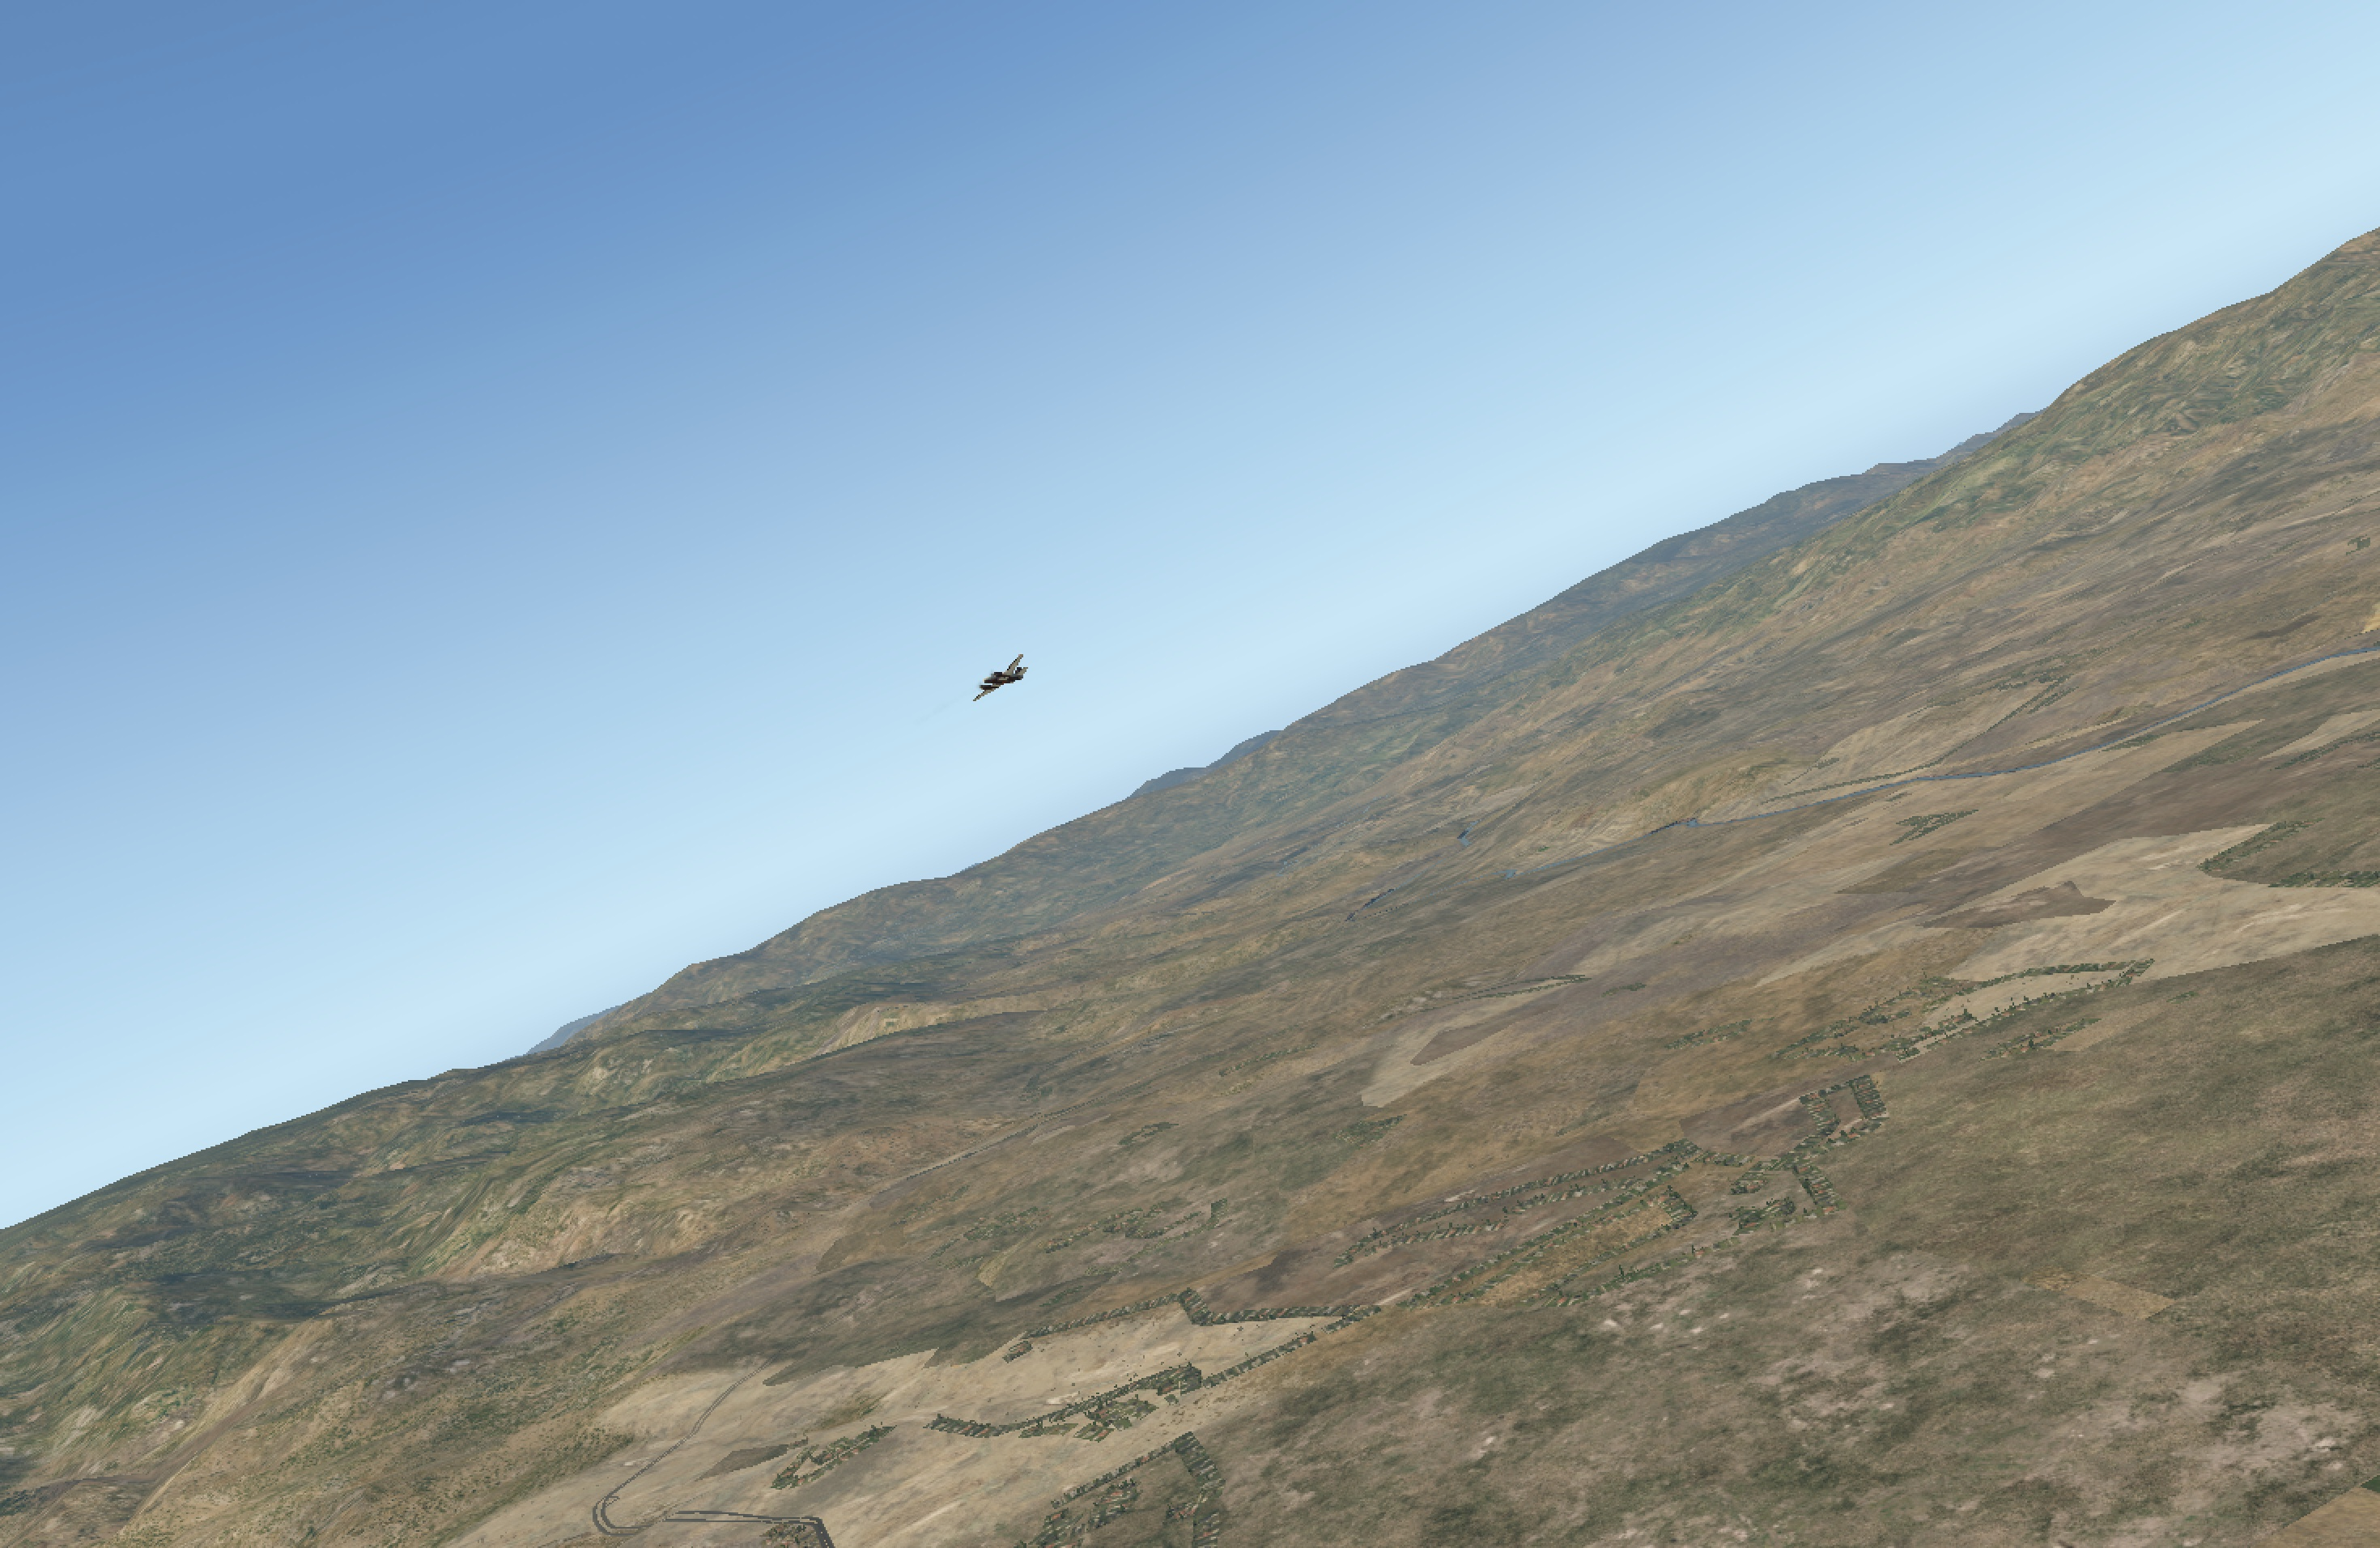aircraft: (954, 666, 1041, 698)
